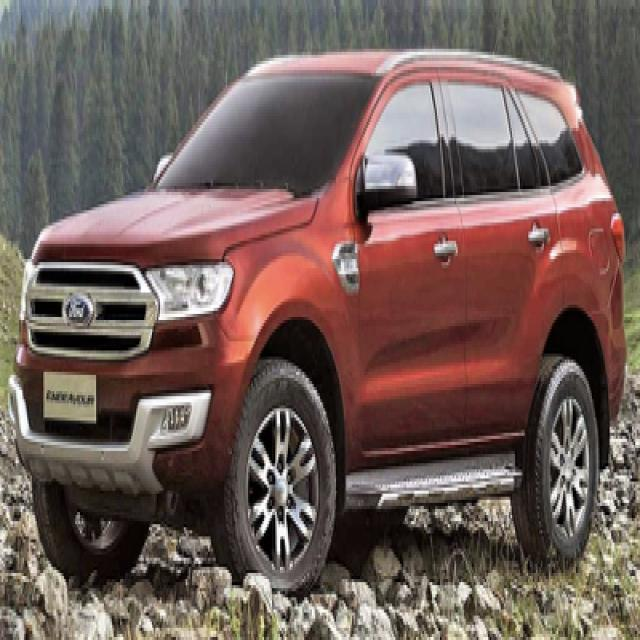licence: (38, 375, 101, 414)
